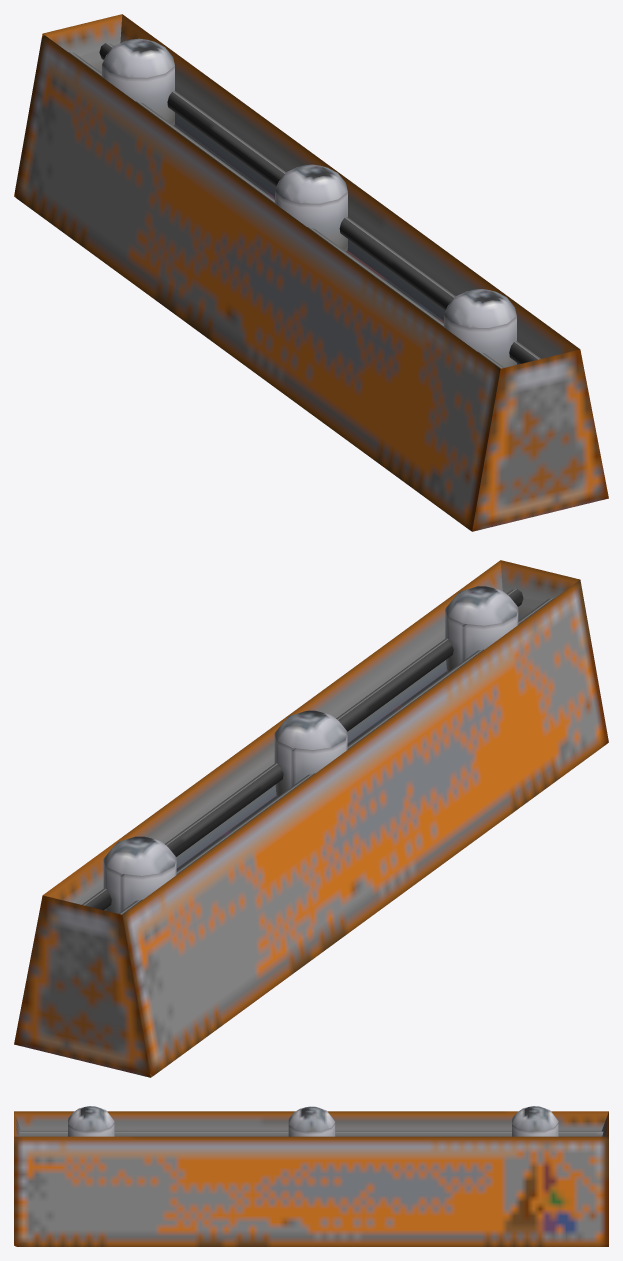
File: fizzler.fbx
The picture shows the model from 3 angles, top to bottom: view 1: azimuth 30°, elevation 25°; view 2: azimuth 150°, elevation 25°; view 3: azimuth 270°, elevation 25°; orthographic projection. The views are drawn at different scales.
Visible parts, largest first — view 1: Cylinder, Cylinder.004; view 2: Cylinder, Cylinder.004; view 3: Cylinder, Cylinder.004.
Part boxes in pixels (box(x1,y1,x2,y2)): Cylinder: box(14, 14, 608, 531); Cylinder.004: box(102, 38, 516, 367); Cylinder: box(14, 560, 608, 1077); Cylinder.004: box(103, 586, 518, 913); Cylinder: box(14, 1111, 608, 1246); Cylinder.004: box(68, 1106, 558, 1136).
Size of the model in its own units: 34.52 by 42.6 by 200.
